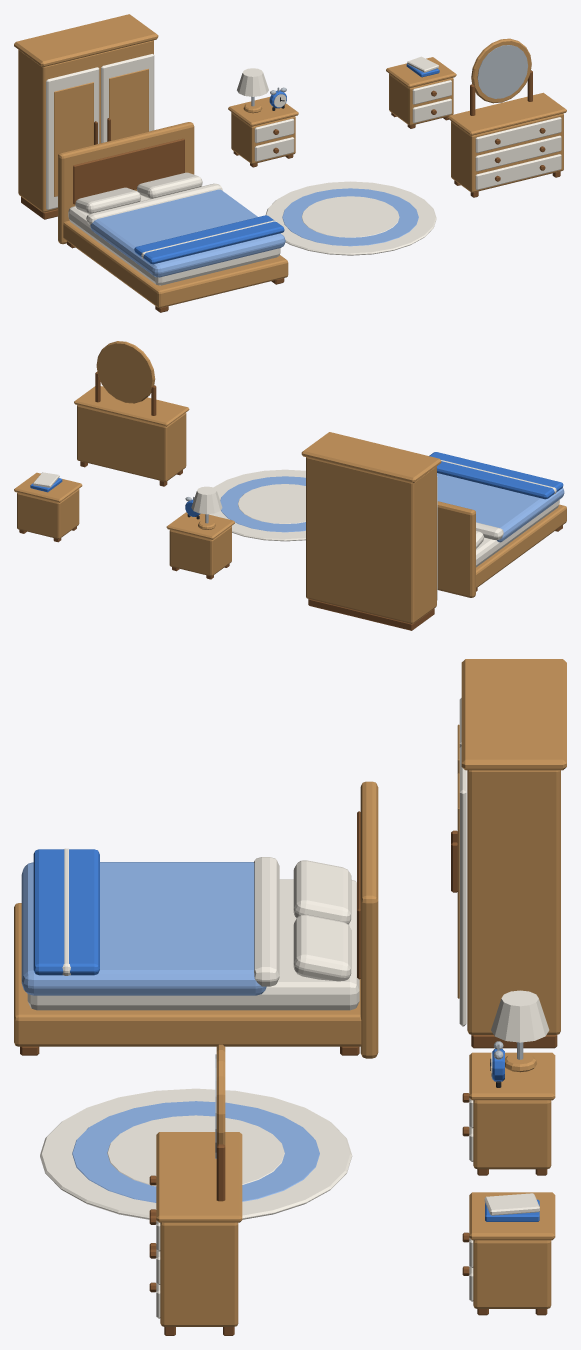
File: cosy-bedroom-set.glb
The picture shows the model from 3 angles, top to bottom: view 1: azimuth 30°, elevation 25°; view 2: azimuth 150°, elevation 25°; view 3: azimuth 270°, elevation 25°; orthographic projection. The views are drawn at different scales.
Visible parts, largest first — view 1: Bed_Duvet, Wardrobe_Body, Bed_Frame, Dresser, Bed_HeadboardPanel, Wardrobe_Crown, Rug_Base, Bed_Headboard, Rug_Center, Rug_Ring, Bed_Blanket, Wardrobe_Door_L_Inset (+17 smaller); view 2: Wardrobe_Body, Dresser_Body, Bed_Duvet, Wardrobe_Crown, Bed_Headboard, Dresser_MirrorFrame, Bed_Blanket, Nightstand_A_Body, Nightstand_B_Body, Rug_Center, Bed_Frame, Dresser_Top (+7 smaller); view 3: Bed_Duvet, Wardrobe_Body, Bed_Frame, Wardrobe_Crown, Rug_Base, Bed_Mattress, Rug_Ring, Dresser_Body, Bed_Blanket, Dresser_Top, Bed, Nightstand_A_Body (+12 smaller).
Boxes of the visible parts, bbox=[...] form: Bed_Duvet: bbox=[90, 189, 285, 277]; Wardrobe_Body: bbox=[18, 40, 153, 212]; Bed_Frame: bbox=[63, 220, 288, 308]; Dresser: bbox=[475, 70, 561, 189]; Bed_HeadboardPanel: bbox=[73, 138, 184, 204]; Wardrobe_Crown: bbox=[14, 14, 158, 67]; Rug_Base: bbox=[265, 181, 436, 255]; Bed_Headboard: bbox=[58, 122, 194, 244]; Rug_Center: bbox=[301, 196, 399, 237]; Rug_Ring: bbox=[282, 188, 418, 246]; Bed_Blanket: bbox=[134, 215, 284, 264]; Wardrobe_Door_L_Inset: bbox=[54, 82, 93, 196]; Wardrobe_Body: bbox=[306, 457, 436, 623]; Dresser_Body: bbox=[77, 405, 186, 481]; Bed_Duvet: bbox=[437, 473, 564, 542]; Wardrobe_Crown: bbox=[301, 432, 441, 483]; Bed_Headboard: bbox=[437, 501, 475, 597]; Dresser_MirrorFrame: bbox=[96, 341, 155, 403]; Bed_Blanket: bbox=[429, 452, 563, 499]; Nightstand_A_Body: bbox=[169, 526, 231, 576]; Nightstand_B_Body: bbox=[17, 489, 79, 538]; Rug_Center: bbox=[238, 484, 305, 523]; Bed_Frame: bbox=[476, 504, 566, 588]; Dresser_Top: bbox=[74, 386, 189, 426]; Bed_Duvet: bbox=[21, 862, 266, 995]; Wardrobe_Body: bbox=[467, 770, 560, 1034]; Bed_Frame: bbox=[14, 903, 361, 1046]; Wardrobe_Crown: bbox=[461, 659, 566, 770]; Rug_Base: bbox=[40, 1088, 352, 1219]; Bed_Mattress: bbox=[27, 879, 359, 1010]; Rug_Ring: bbox=[72, 1101, 319, 1202]; Dresser_Body: bbox=[160, 1222, 238, 1326]; Bed_Blanket: bbox=[33, 849, 99, 975]; Dresser_Top: bbox=[156, 1132, 242, 1222]; Bed: bbox=[293, 860, 351, 981]; Nightstand_A_Body: bbox=[473, 1100, 551, 1169].
Bounding box in the file's own units: 24.17 × 8.25 × 14.16.
